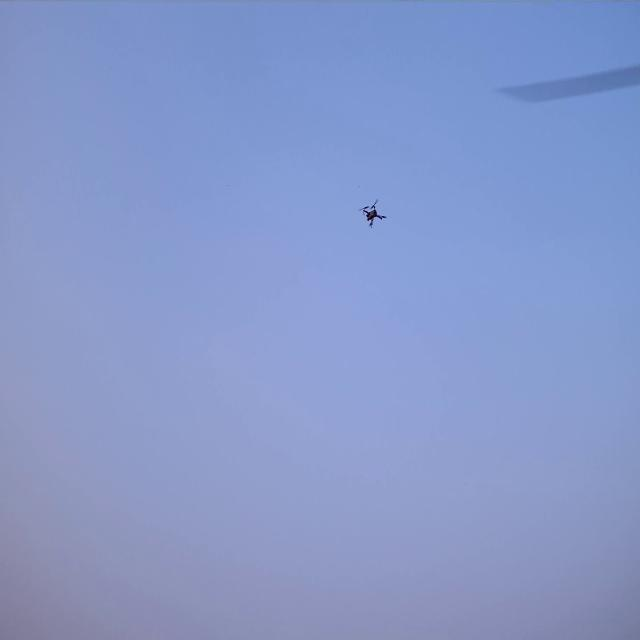UAV: (363, 204, 385, 228)
